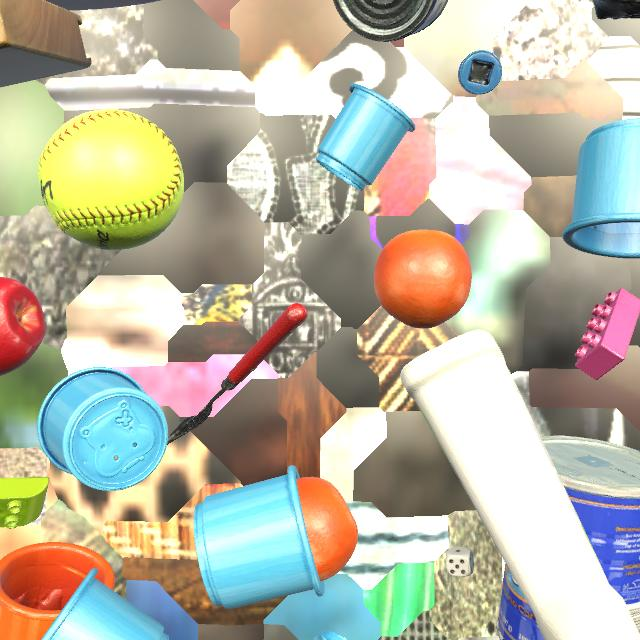ycb_002_master_chef_can: (497, 435, 640, 640)
ycb_007_tuna_fish_can: (333, 0, 448, 42)
ycb_013_apple: (0, 277, 46, 376)
ycb_017_orange: (374, 230, 472, 329), (296, 477, 358, 581)
